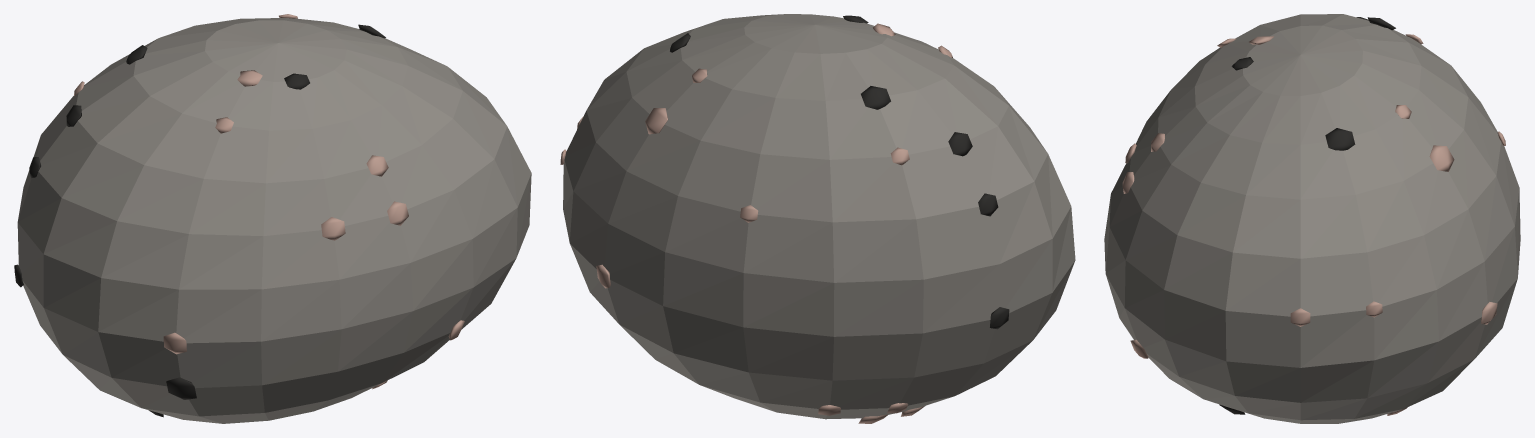
The model's file is lake-boulder-shallows-0.glb.
3 views of the same model, side by side, from view 1: azimuth 30°, elevation 25°; view 2: azimuth 150°, elevation 25°; view 3: azimuth 270°, elevation 25° (orthographic). The views are drawn at different scales.
Visible parts, largest first — view 1: lake-boulder-shallows-0; view 2: lake-boulder-shallows-0; view 3: lake-boulder-shallows-0.
Boxes of the visible parts, box(x1,y1,x2,y2) form: lake-boulder-shallows-0: box(14, 14, 531, 423); lake-boulder-shallows-0: box(560, 14, 1075, 423); lake-boulder-shallows-0: box(1104, 14, 1520, 423).
Bounding box in the file's own units: 1.18 × 0.8504 × 0.9253.
